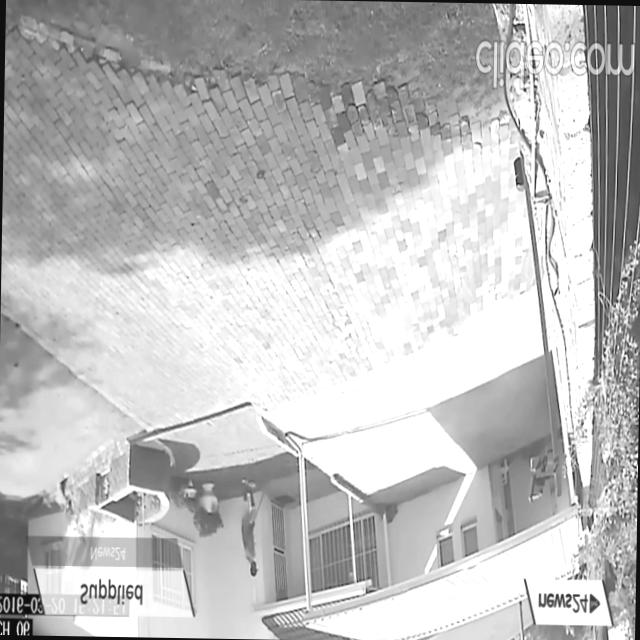weapon: (234, 458, 270, 584)
